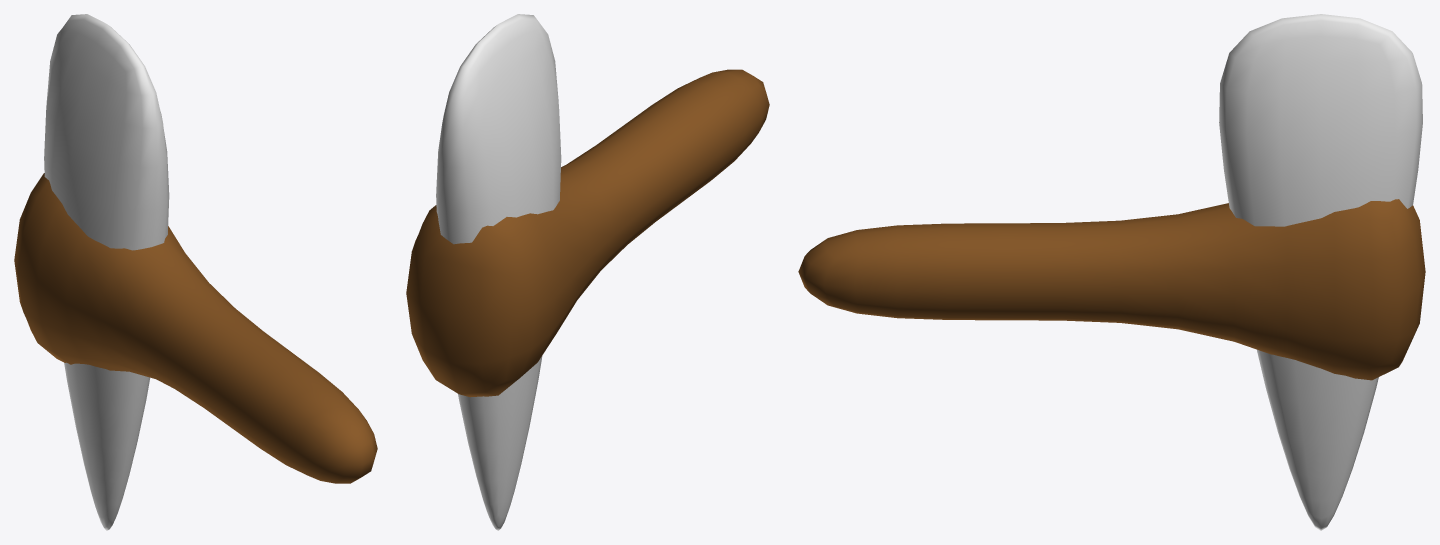
The picture shows the model from 3 angles, left to right: view 1: azimuth 30°, elevation 25°; view 2: azimuth 150°, elevation 25°; view 3: azimuth 270°, elevation 25°; orthographic projection.
Visible parts, largest first — view 1: Ax; view 2: Ax; view 3: Ax.
Part boxes in pixels (x1,y1,x2,y2): Ax: (14, 14, 377, 530); Ax: (406, 14, 769, 530); Ax: (798, 14, 1425, 530).
Bounding box in the file's own units: 0.4741 × 1.82 × 2.01.
